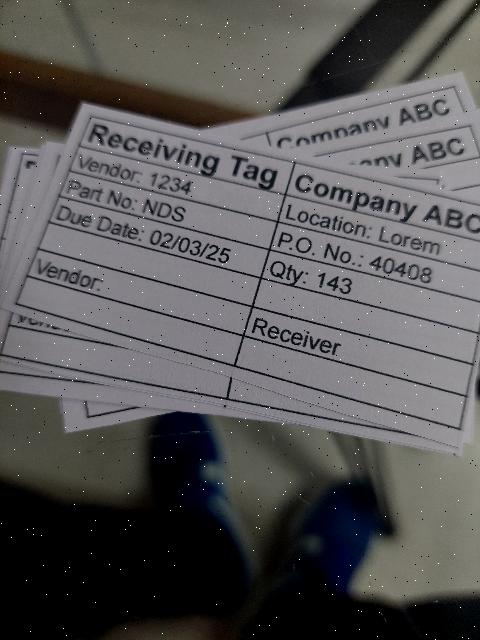PO no: (269, 222, 480, 303)
part no: (59, 171, 279, 249)
qty: (261, 251, 480, 334)
tags: (1, 103, 480, 448)
